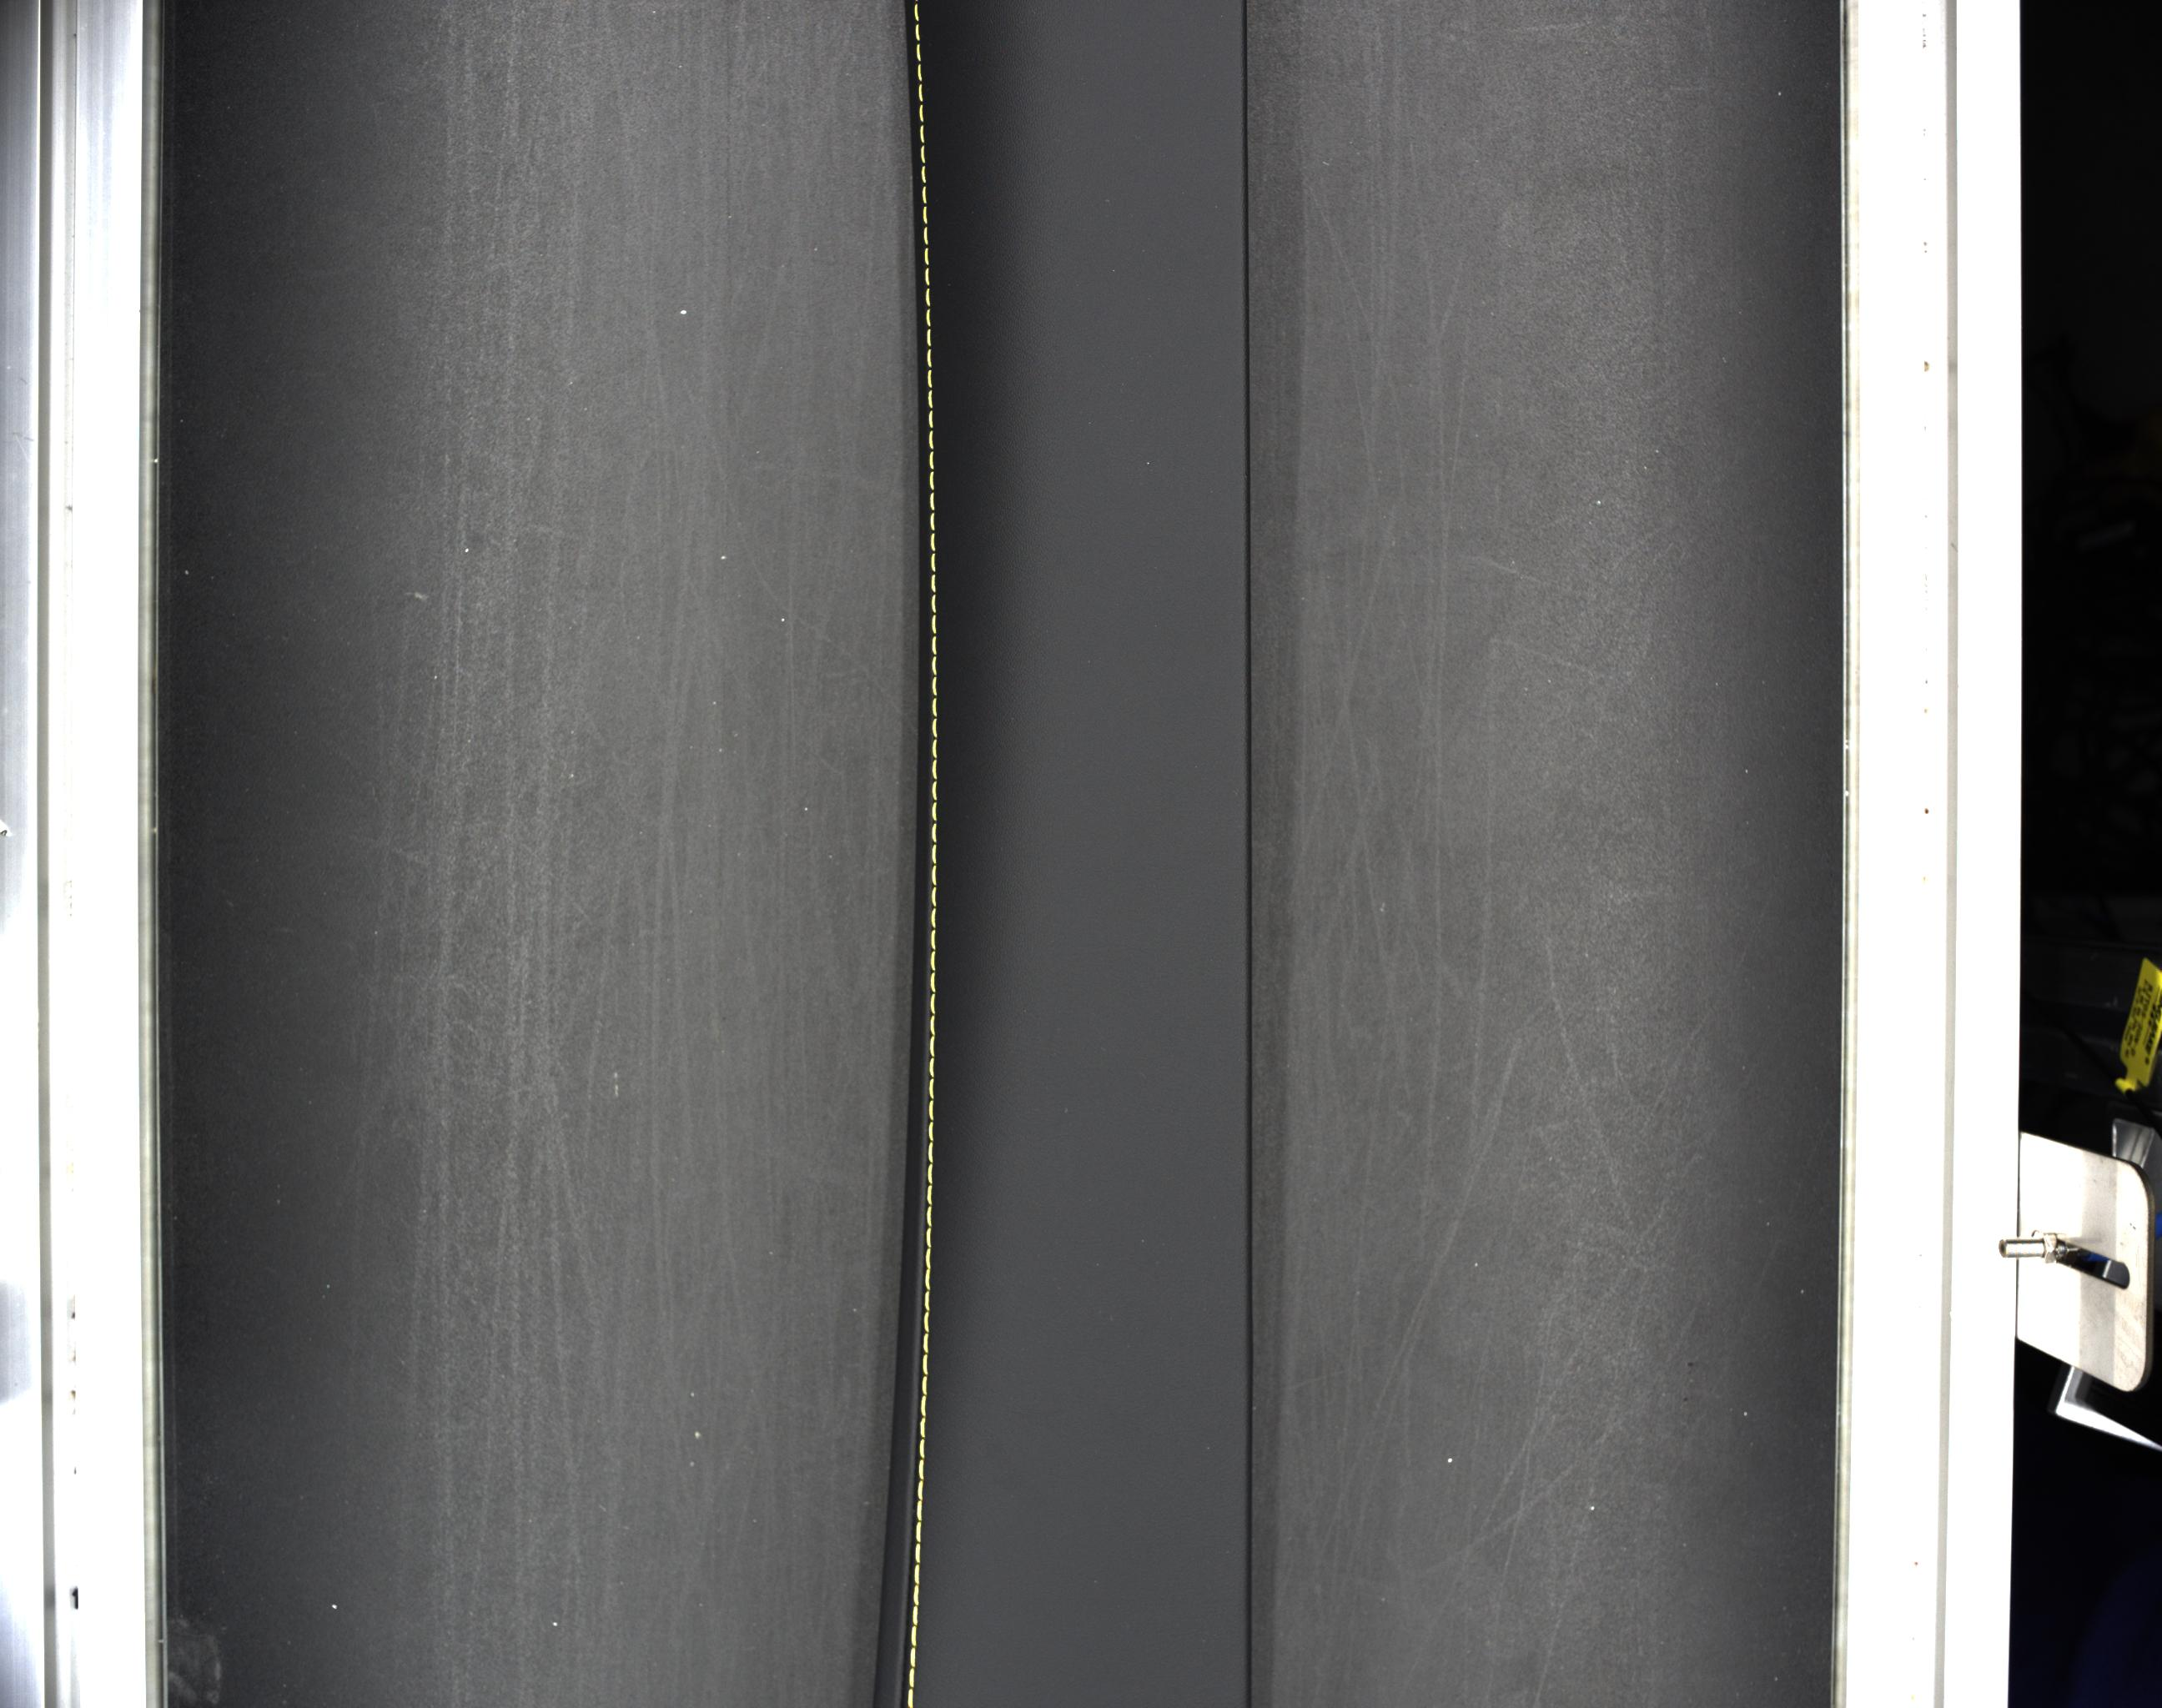vline: (927, 1143, 935, 1164), (921, 1353, 930, 1374), (918, 1418, 927, 1439), (918, 1439, 928, 1457), (930, 760, 939, 779), (930, 781, 939, 800), (928, 971, 937, 990), (928, 1015, 937, 1034), (928, 1036, 937, 1055), (927, 1122, 935, 1141), (914, 1501, 923, 1520), (913, 1543, 921, 1562), (909, 1627, 918, 1647), (930, 992, 937, 1015), (927, 1166, 935, 1183), (911, 1606, 920, 1624), (930, 676, 937, 697), (930, 823, 937, 844), (930, 885, 937, 906), (930, 906, 937, 927), (930, 950, 937, 971), (928, 1078, 935, 1099), (927, 1185, 934, 1206), (923, 1311, 930, 1332), (920, 1396, 927, 1417), (913, 1585, 920, 1606), (930, 804, 939, 820), (920, 146, 927, 165), (925, 309, 932, 328), (930, 614, 937, 634), (930, 635, 937, 655), (930, 657, 937, 676), (930, 844, 937, 864), (930, 865, 937, 885), (928, 1059, 935, 1078), (925, 1206, 932, 1225), (925, 1248, 932, 1267), (923, 1334, 930, 1353), (921, 1376, 928, 1396), (916, 1480, 923, 1499), (909, 1669, 916, 1689), (913, 4, 920, 21), (916, 63, 923, 81), (920, 165, 927, 183), (921, 186, 928, 204), (921, 205, 928, 223), (925, 288, 932, 305), (927, 390, 934, 407), (928, 451, 935, 469), (928, 470, 935, 488), (928, 513, 935, 530), (928, 534, 935, 551), (930, 553, 937, 571), (930, 699, 937, 716), (930, 720, 937, 737), (930, 739, 937, 757), (923, 1271, 930, 1288), (923, 1290, 930, 1308), (914, 1524, 921, 1541), (907, 1689, 914, 1706), (928, 1099, 934, 1122), (914, 44, 921, 60), (916, 84, 923, 100), (918, 125, 925, 140), (923, 269, 930, 284), (928, 493, 935, 509), (930, 576, 937, 592), (930, 595, 937, 611), (930, 929, 935, 950), (909, 1650, 916, 1666), (918, 102, 923, 121), (928, 409, 934, 428), (928, 430, 934, 449), (920, 1459, 925, 1478), (914, 1564, 920, 1583), (923, 226, 928, 244), (923, 248, 928, 265), (927, 328, 932, 346), (927, 349, 932, 367), (927, 369, 932, 386), (927, 1229, 932, 1246), (914, 25, 920, 39)
